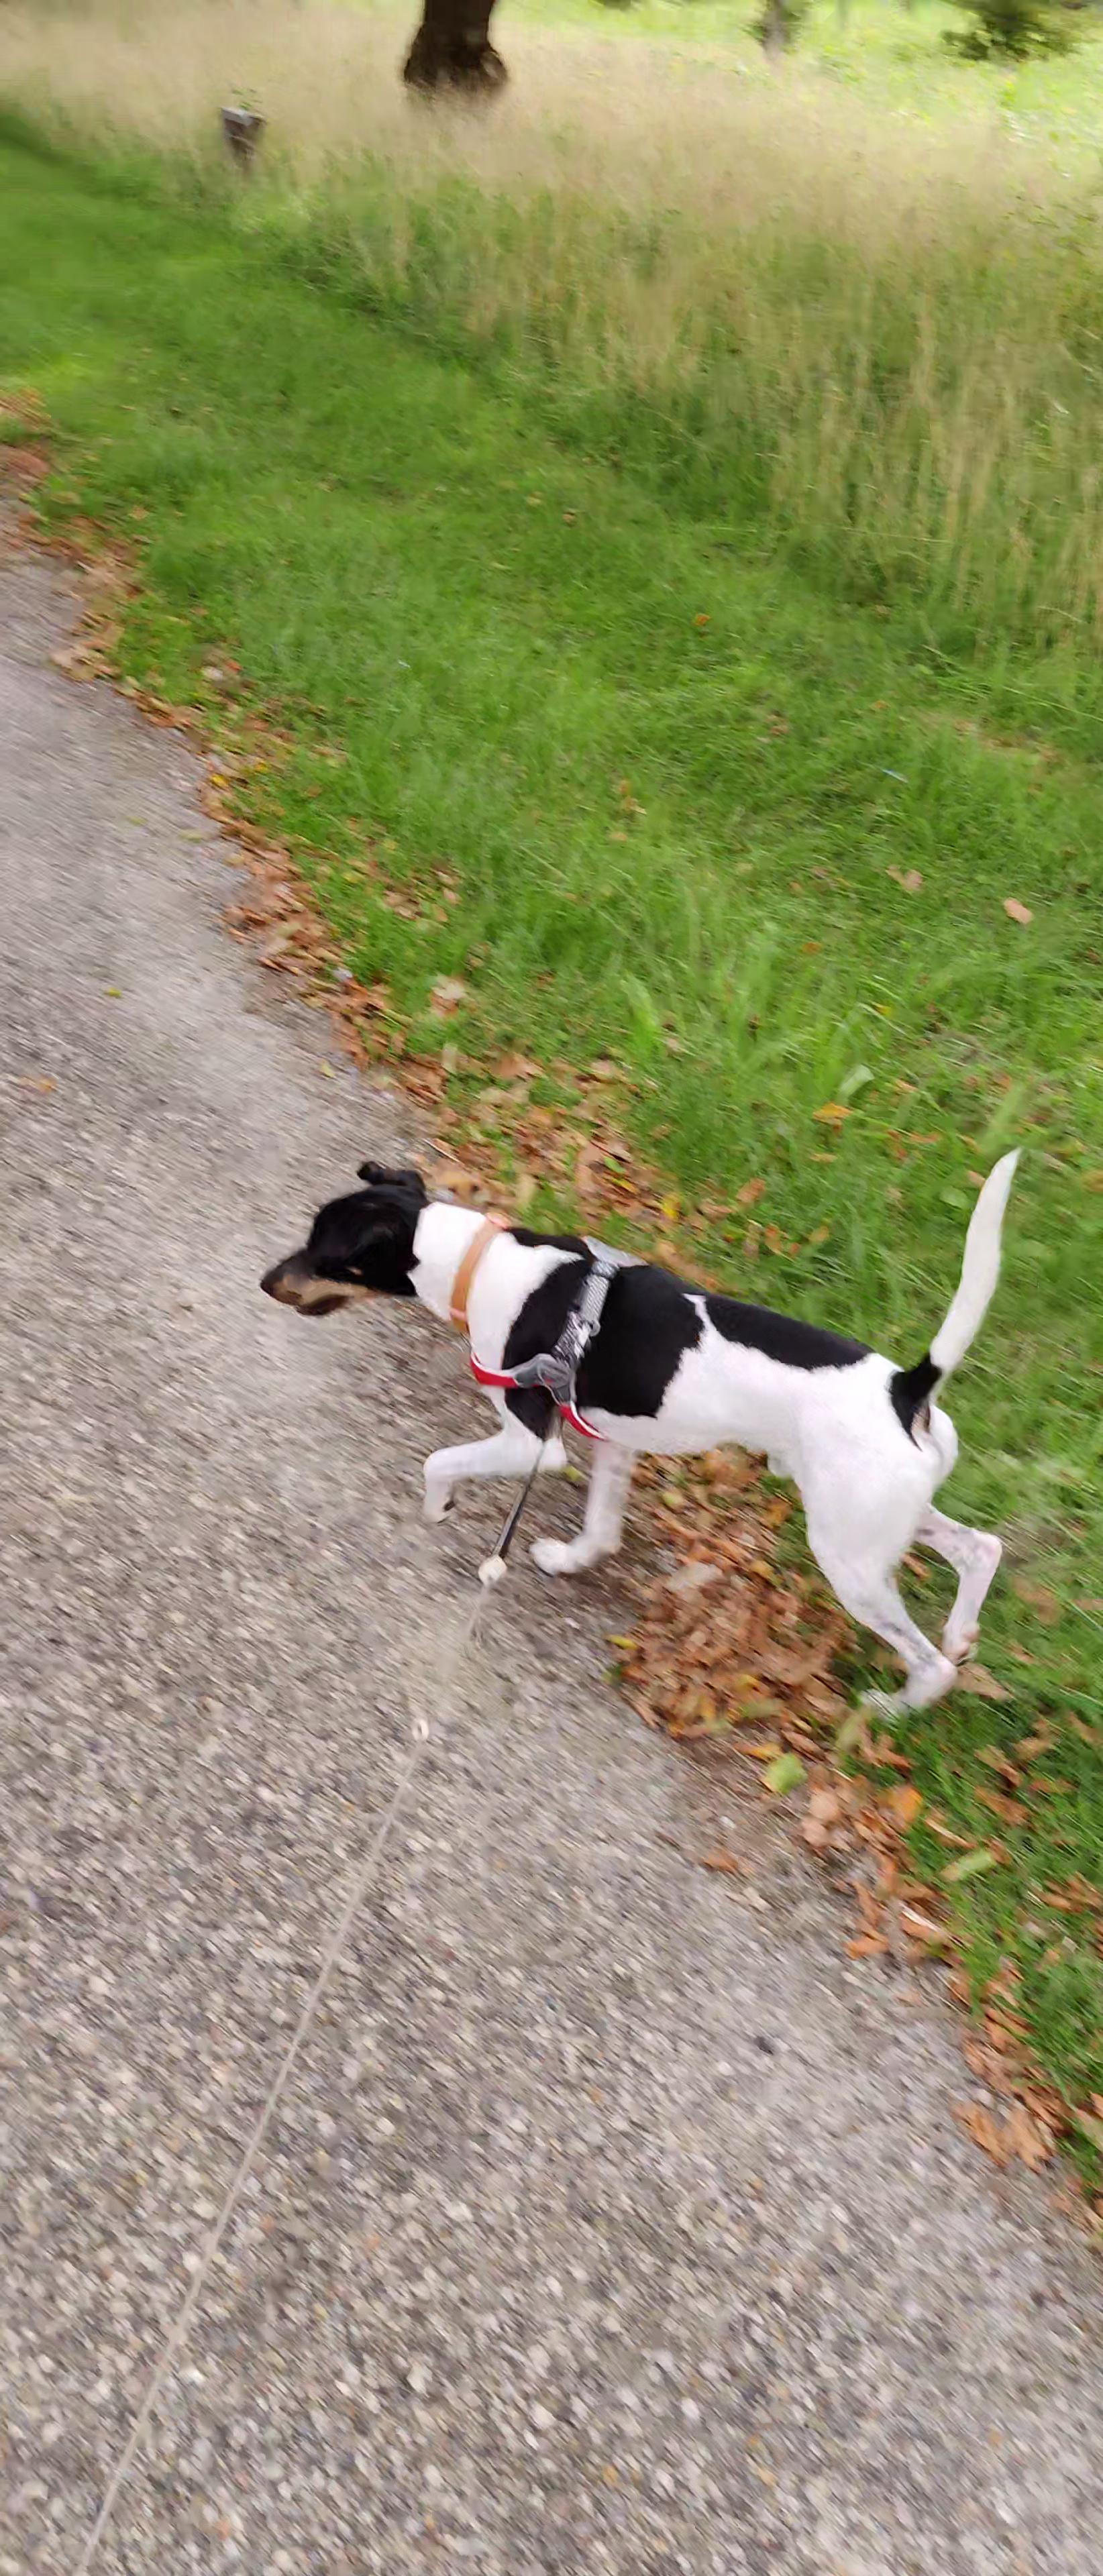Dog: (248, 1127, 1037, 1730)
